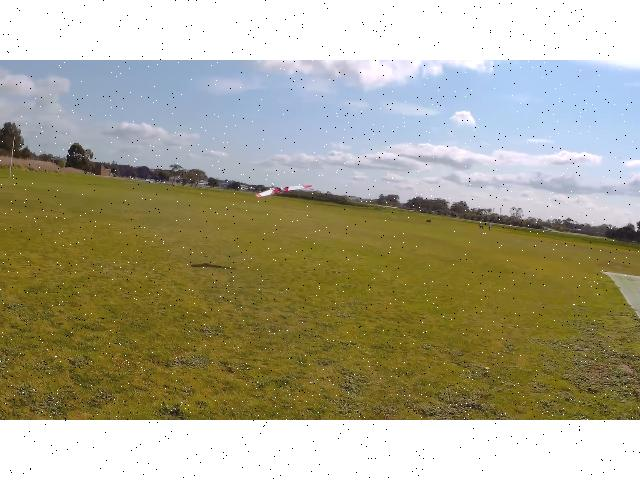Anti-Drone: (255, 185, 313, 197)
